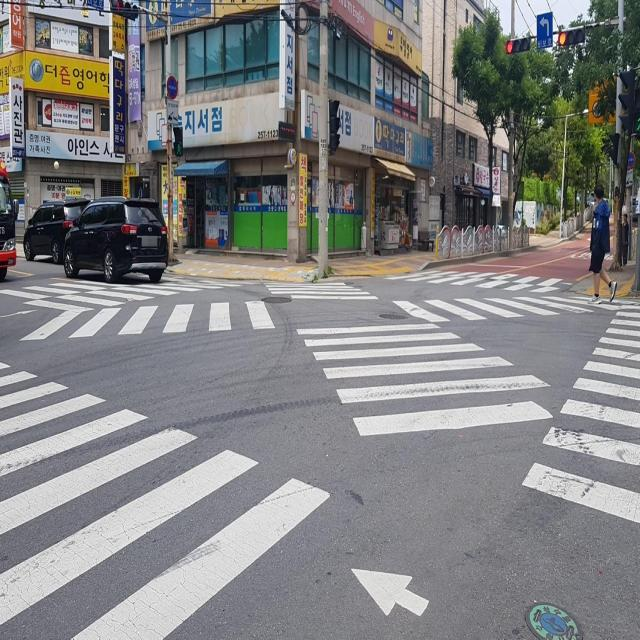초록불: (175, 128, 183, 156)
횡단보도: (0, 360, 322, 640), (260, 278, 554, 437), (530, 299, 640, 532), (8, 287, 280, 344)
